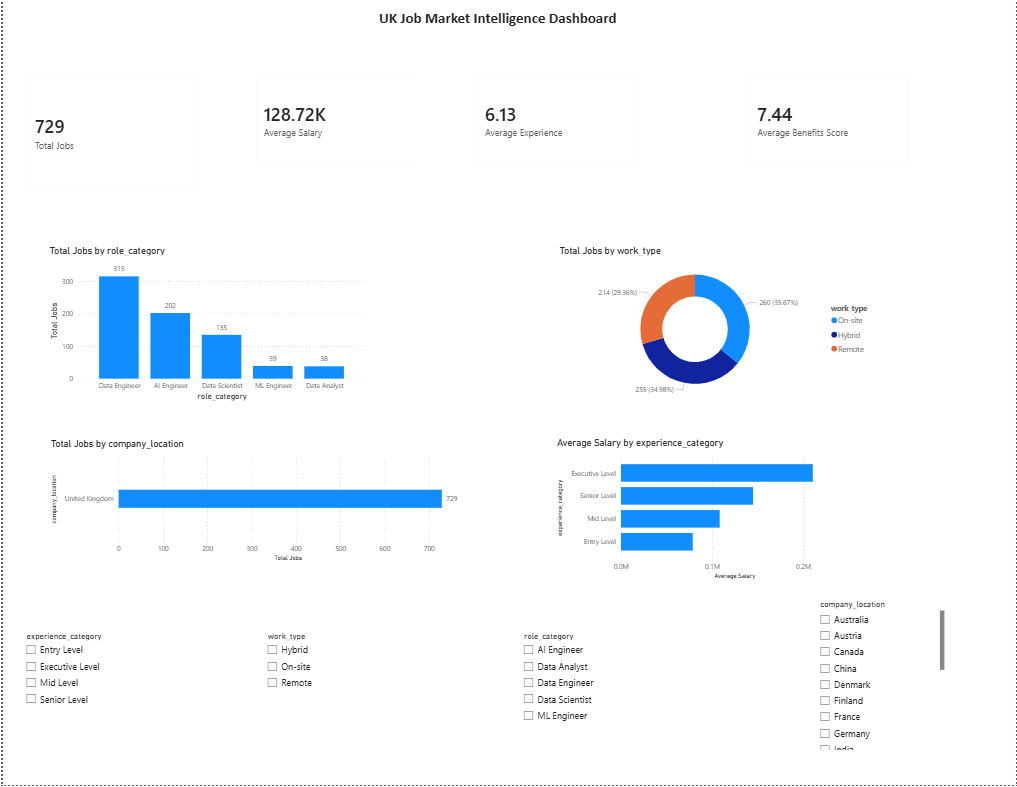

This screenshot's page, from the dashboard's own definition file:
{"tool":"powerbi","page":{"name":"Page 1","canvas":[1800,1400],"ordinal":0},"visuals":[{"type":"cardVisual","fields":{"Data":["public jobs.Total Jobs"]},"box":[27.5,122.5,337.5,235],"z":1},{"type":"cardVisual","fields":{"Data":["public jobs.Average Salary"]},"box":[432.5,122.5,315,190],"z":2},{"type":"cardVisual","fields":{"Data":["public jobs.Average Experience"]},"box":[827.5,122.5,315,190],"z":3},{"type":"cardVisual","fields":{"Data":["public jobs.Average Benefits Score"]},"box":[1310,122.5,315,190],"z":4},{"type":"clusteredColumnChart","fields":{"Category":["public jobs.role_category"],"Y":["public jobs.Total Jobs"]},"box":[77.5,440,572.5,282.5],"z":5},{"type":"donutChart","fields":{"Y":["public jobs.Total Jobs"],"Category":["public jobs.work_type"]},"box":[985,440,575,282.5],"z":6},{"type":"clusteredBarChart","fields":{"Category":["public jobs.company_location"],"Y":["public jobs.Total Jobs"]},"box":[80,784,744,224],"z":7},{"type":"slicer","fields":{"Values":["public jobs.experience_category"]},"box":[28.6,1122.9,387.1,220],"z":8},{"type":"slicer","fields":{"Values":["public jobs.work_type"]},"box":[457.1,1122.9,387.1,220],"z":9},{"type":"slicer","fields":{"Values":["public jobs.role_category"]},"box":[914.3,1122.9,394.3,220],"z":10},{"type":"slicer","fields":{"Values":["public jobs.company_location"]},"box":[1440,1065.7,238.6,277.1],"z":11},{"type":"clusteredBarChart","fields":{"Category":["public jobs.experience_category"],"Y":["public jobs.Average Salary"]},"box":[980,781.4,542.9,258.6],"z":12},{"type":"textbox","box":[16,16,1728,48],"z":13}]}

Visuals, with their boxes in screenshot pixels (x1, y1, x2, y2), scaled from the page's 1800x1400 canvas onto the 1017x787 screenshot:
cardVisual - public jobs.Total Jobs: <box>16,69,206,201</box>
cardVisual - public jobs.Average Salary: <box>244,69,422,176</box>
cardVisual - public jobs.Average Experience: <box>468,69,646,176</box>
cardVisual - public jobs.Average Benefits Score: <box>740,69,918,176</box>
clusteredColumnChart - public jobs.role_category x public jobs.Total Jobs: <box>44,247,367,406</box>
donutChart - public jobs.Total Jobs x public jobs.work_type: <box>557,247,881,406</box>
clusteredBarChart - public jobs.company_location x public jobs.Total Jobs: <box>45,441,466,567</box>
slicer - public jobs.experience_category: <box>16,631,235,755</box>
slicer - public jobs.work_type: <box>258,631,477,755</box>
slicer - public jobs.role_category: <box>517,631,739,755</box>
slicer - public jobs.company_location: <box>814,599,948,755</box>
clusteredBarChart - public jobs.experience_category x public jobs.Average Salary: <box>554,439,860,585</box>
textbox: <box>9,9,985,36</box>
